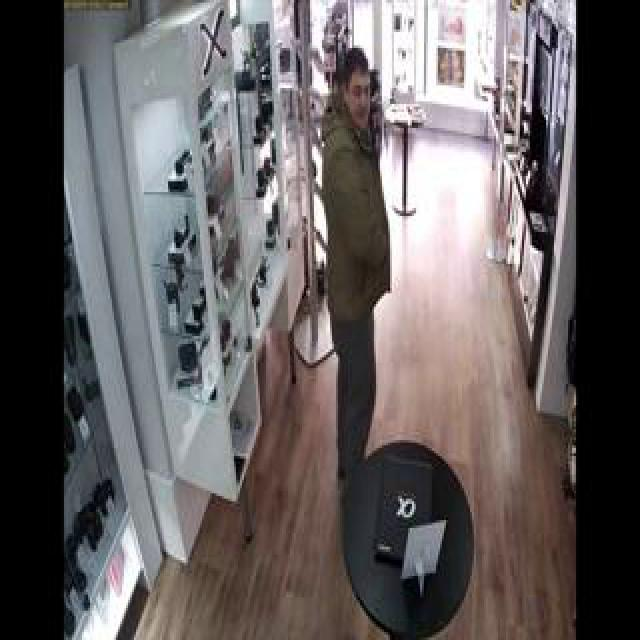shoplifting: (149, 49, 533, 572)
